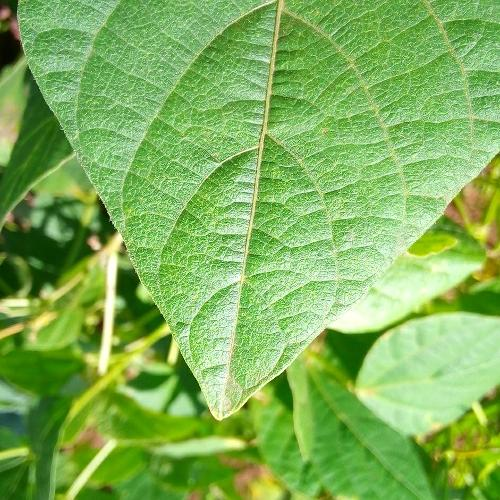sehat: (23, 2, 500, 413)
